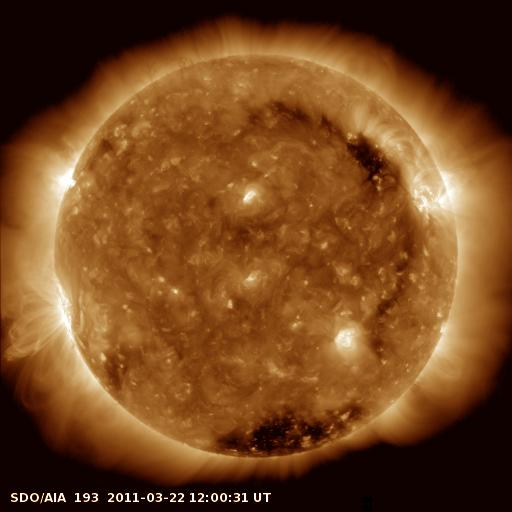coronal_hole: (211, 403, 354, 465), (341, 127, 397, 186)
